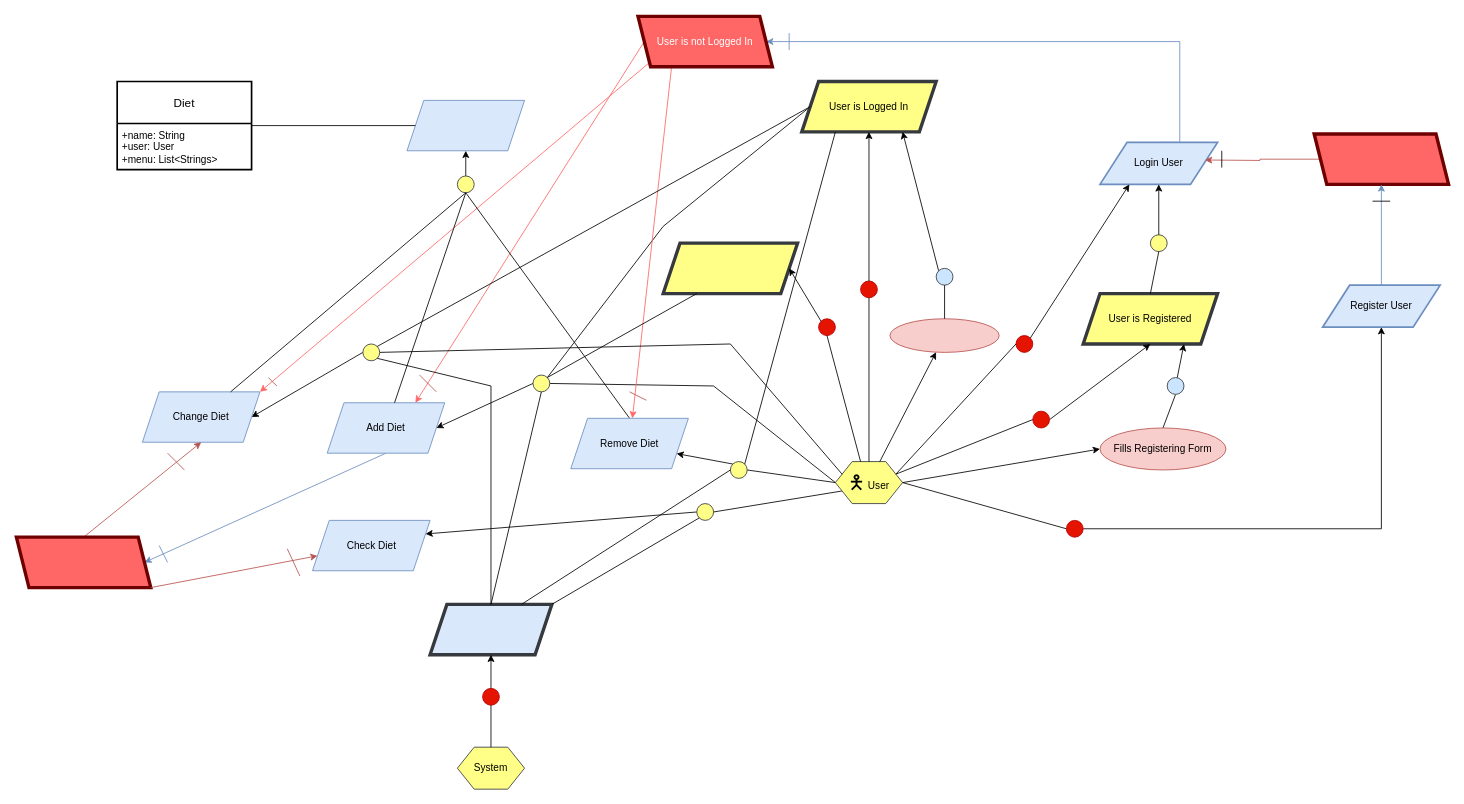
The diagram is 1464 pixels wide and 804 high, and some of its shapes have lost their labels. Here are the shapes that lost their labels. From the top down, the box of each, then its label:
(406, 100, 525, 151): Manage Diets
(1312, 132, 1450, 186): User is not Registered
(661, 241, 799, 295): User Requested Diet
(889, 318, 999, 352): Fills Login Credentials
(14, 535, 152, 589): No diet
(428, 602, 553, 656): System is Running
